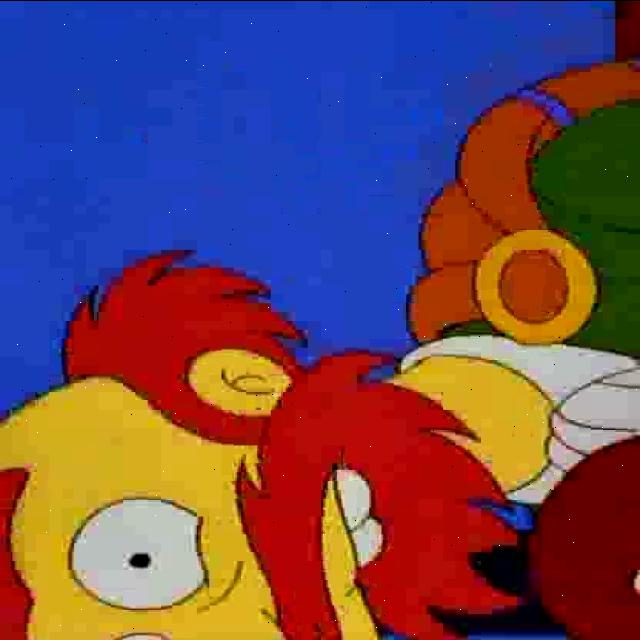Groundskeeper Willie: (0, 240, 538, 640)
